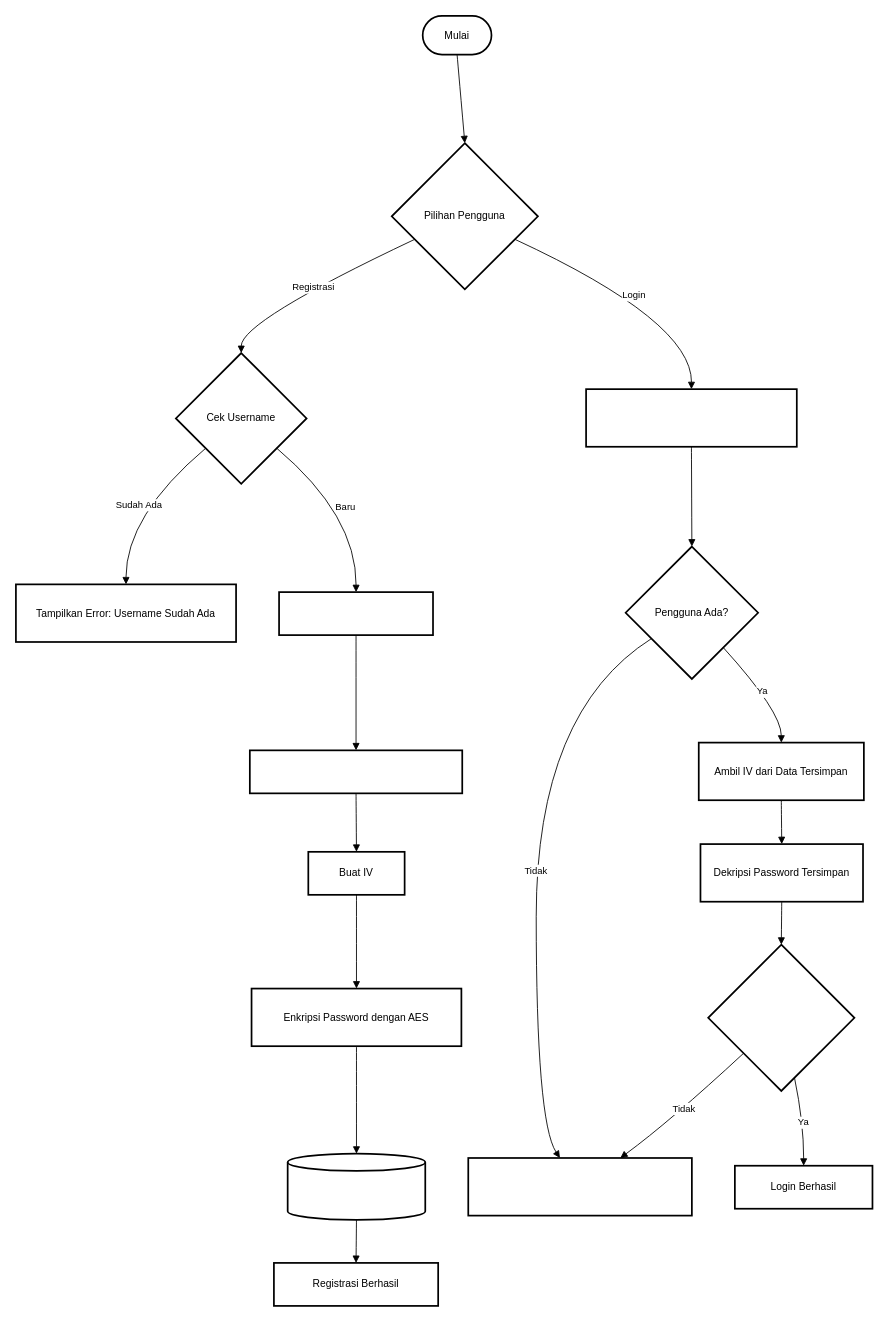
The diagram is 888 pixels wide and 1321 high, and some of its shapes have lost their labels. The shapes that lost their labels are listed below. From the top down, each one's box as (x1, y1, x2, y2) in pixels, then its label:
(585, 388, 797, 447): Ambil Data Pengguna dari DB
(278, 591, 433, 636): Proses Registrasi
(249, 749, 463, 794): Tambah Padding Password
(707, 943, 855, 1091): Password Cocok?
(286, 1152, 426, 1220): Simpan ke Database
(467, 1157, 692, 1216): Tampilkan Error: Kredensial Tidak Valid
